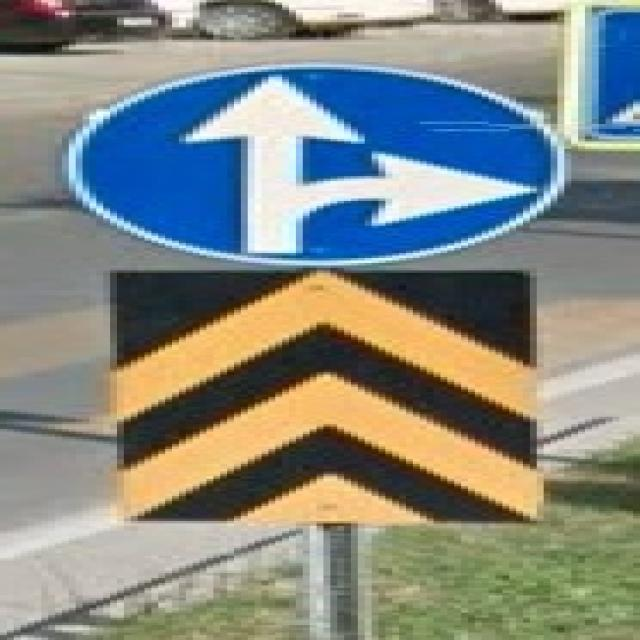Straight or Right: (73, 66, 562, 262)
